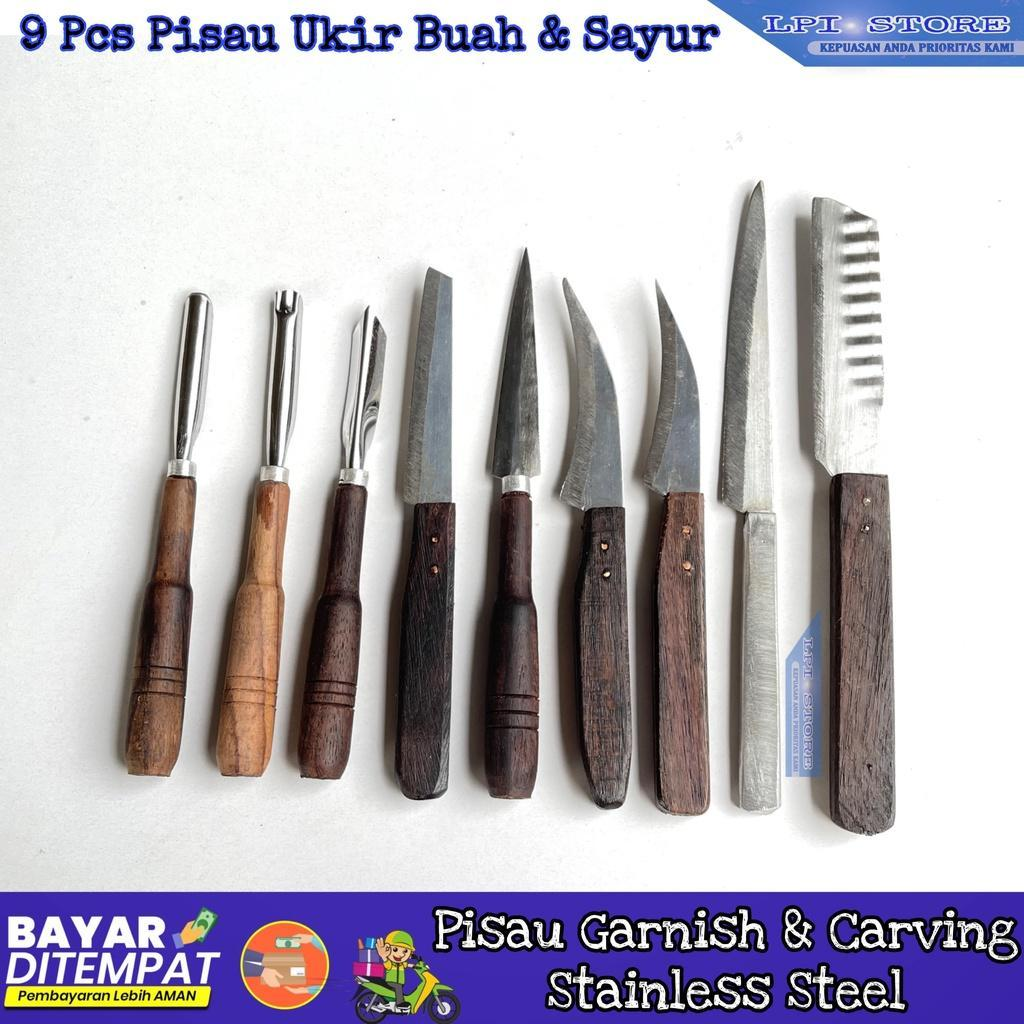faca: (719, 183, 780, 811), (560, 281, 631, 808), (643, 287, 709, 815), (395, 268, 454, 799), (485, 253, 538, 798)
